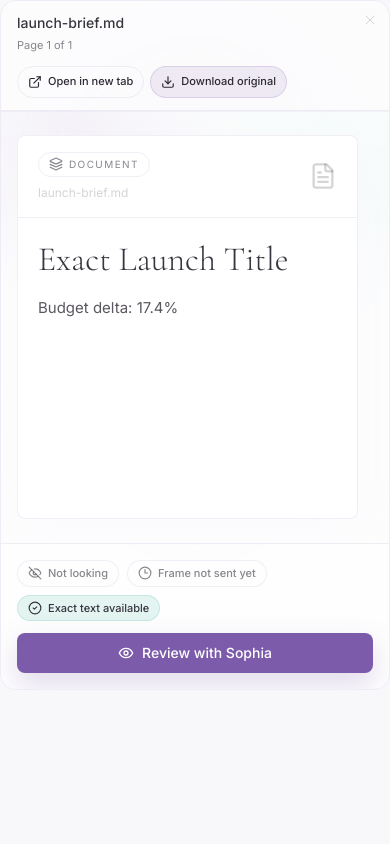
Coreview artifact still-frame review › Review with Sophia sends the selected markdown artifact frame and keeps exact text available
Expected: the heading "Exact Launch Title" is shown, [38,239,288,280]
Step 1. Click the button "Review with Sophia" → point(195, 653), box [17,633,373,673]
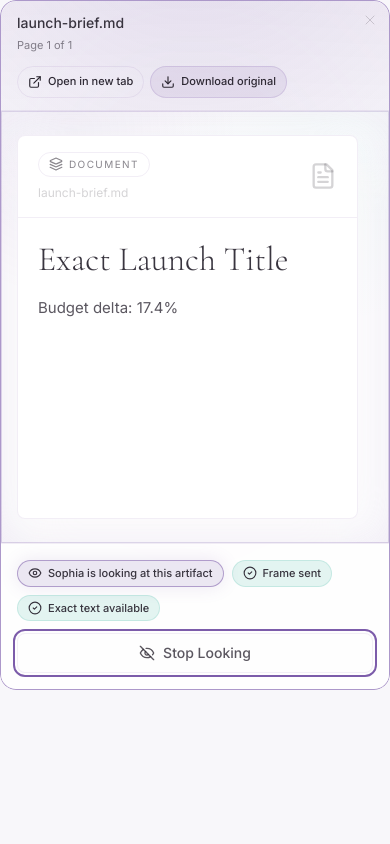
Expected: the text "Exact text available" is shown, [48,600,149,616]
Expected: the message "Sophia is looking at this artifact" is shown, [17,560,224,586]
Expected: the text "Frame sent" is shown, [262,565,321,582]
